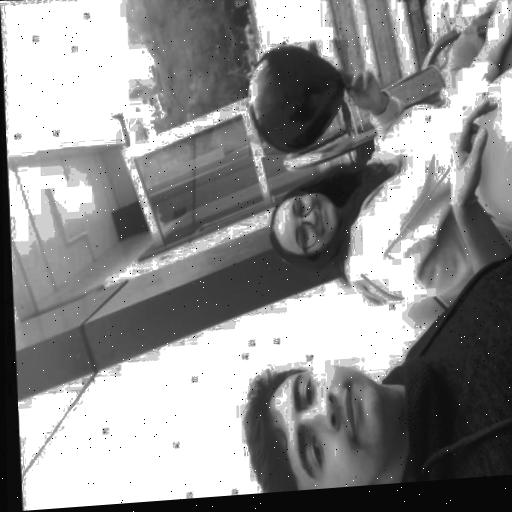balloon: (244, 34, 351, 156)
